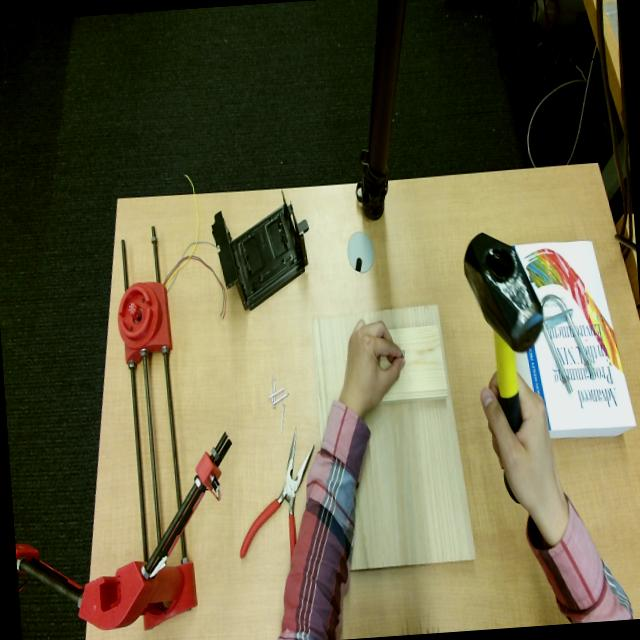hammer: (464, 233, 541, 431)
pliers: (240, 431, 313, 557)
